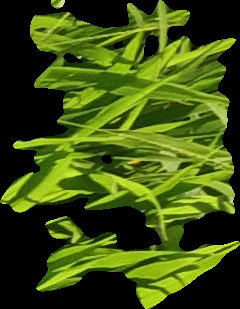grass: (1, 1, 238, 308)
